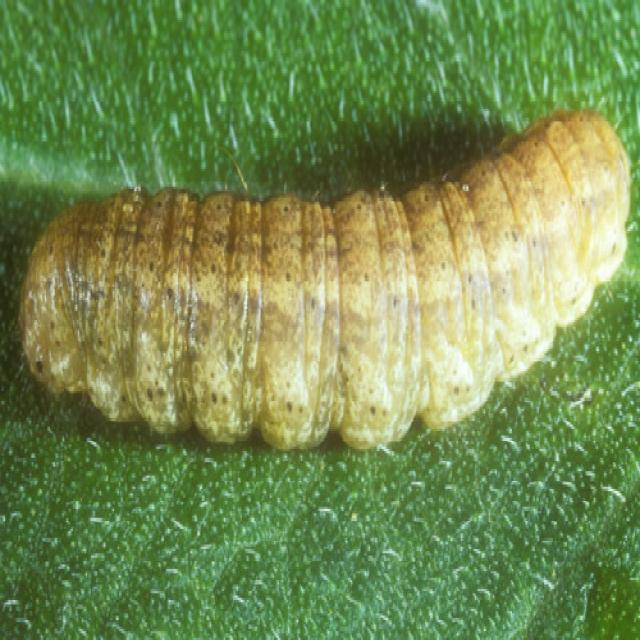worm: (19, 106, 631, 452)
